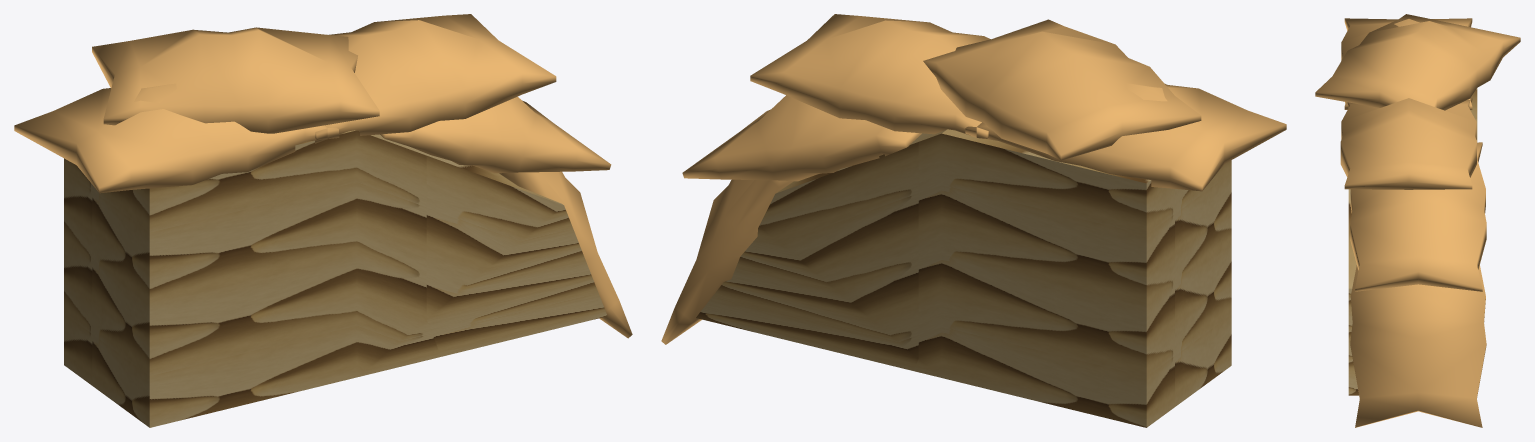
Rendered from Sandbag_End_2.fbx.
3 renders of one model, left to right at view 1: azimuth 30°, elevation 25°; view 2: azimuth 150°, elevation 25°; view 3: azimuth 270°, elevation 25°, orthographic. The views are drawn at different scales.
Visible parts, largest first — view 1: Sandbag_End_2; view 2: Sandbag_End_2; view 3: Sandbag_End_2.
Part boxes in pixels (x1,y1,x2,y2): Sandbag_End_2: (14, 14, 632, 427); Sandbag_End_2: (661, 14, 1286, 427); Sandbag_End_2: (1315, 14, 1520, 427).
Size of the model in its own units: 0.0261 by 0.0167 by 0.0115.
